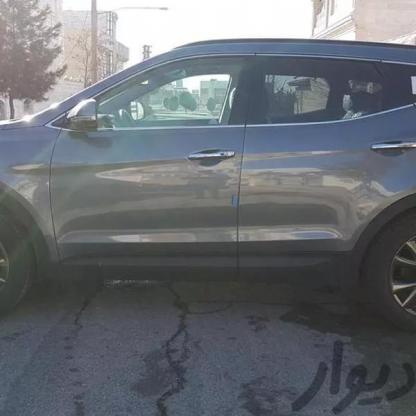Car: (0, 26, 416, 348)
